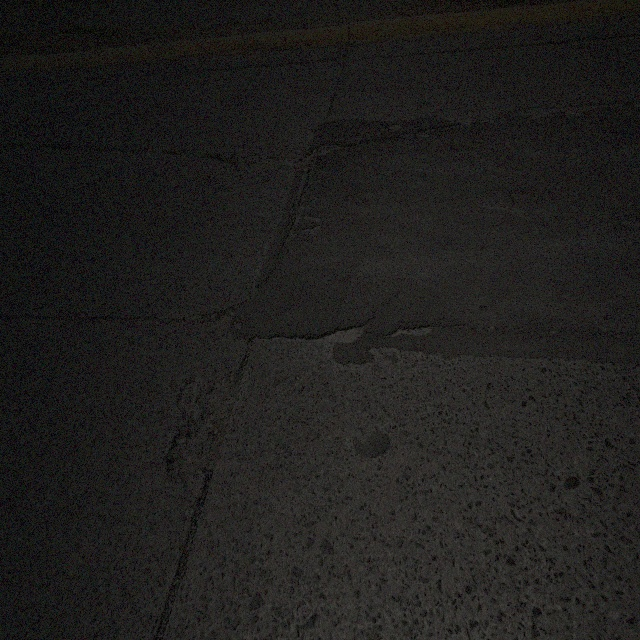pothole: (164, 360, 245, 518), (312, 319, 366, 352), (304, 139, 349, 167), (198, 297, 241, 325), (283, 143, 320, 171), (222, 145, 257, 167), (387, 324, 432, 340), (302, 214, 321, 236)
